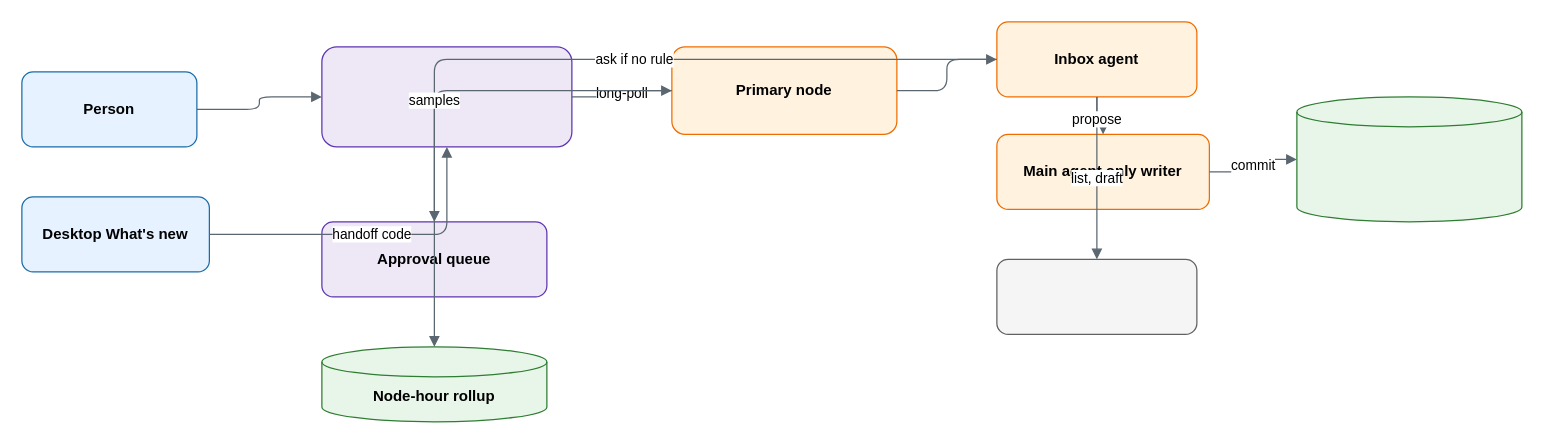
The diagram is 1544 pixels wide and 444 high, and some of its shapes have lost their labels. Each missing label, with the box of its shape:
Control plane metadata, audit: (321, 46, 572, 147)
Gmail / Outlook: (996, 258, 1197, 334)
Ledger git senders.yaml decisions.jsonl: (1296, 96, 1522, 222)
